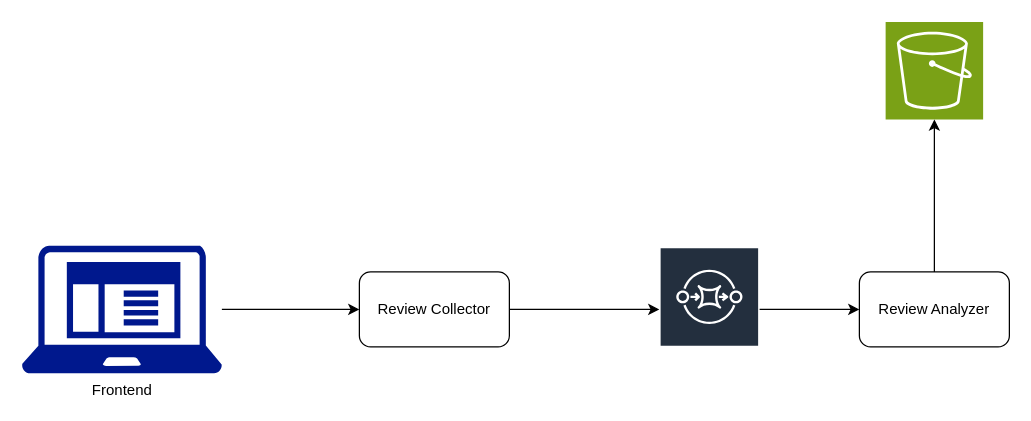
Some shapes in this 1031 by 421 pixel diagram are drawn without their labels. The shapes that lost their labels are listed below. From the top down, each one's centre as x and y in pixels, then its label:
[933,70]: S3 Bucket
[708,309]: Amazon SQS
